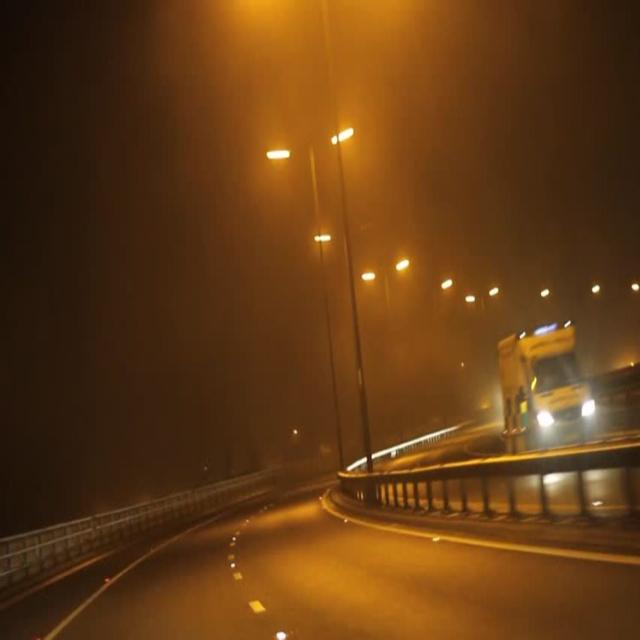car: (496, 323, 598, 447)
